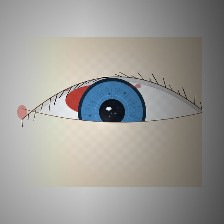hemorrhage_spot: (51, 59, 153, 141)
